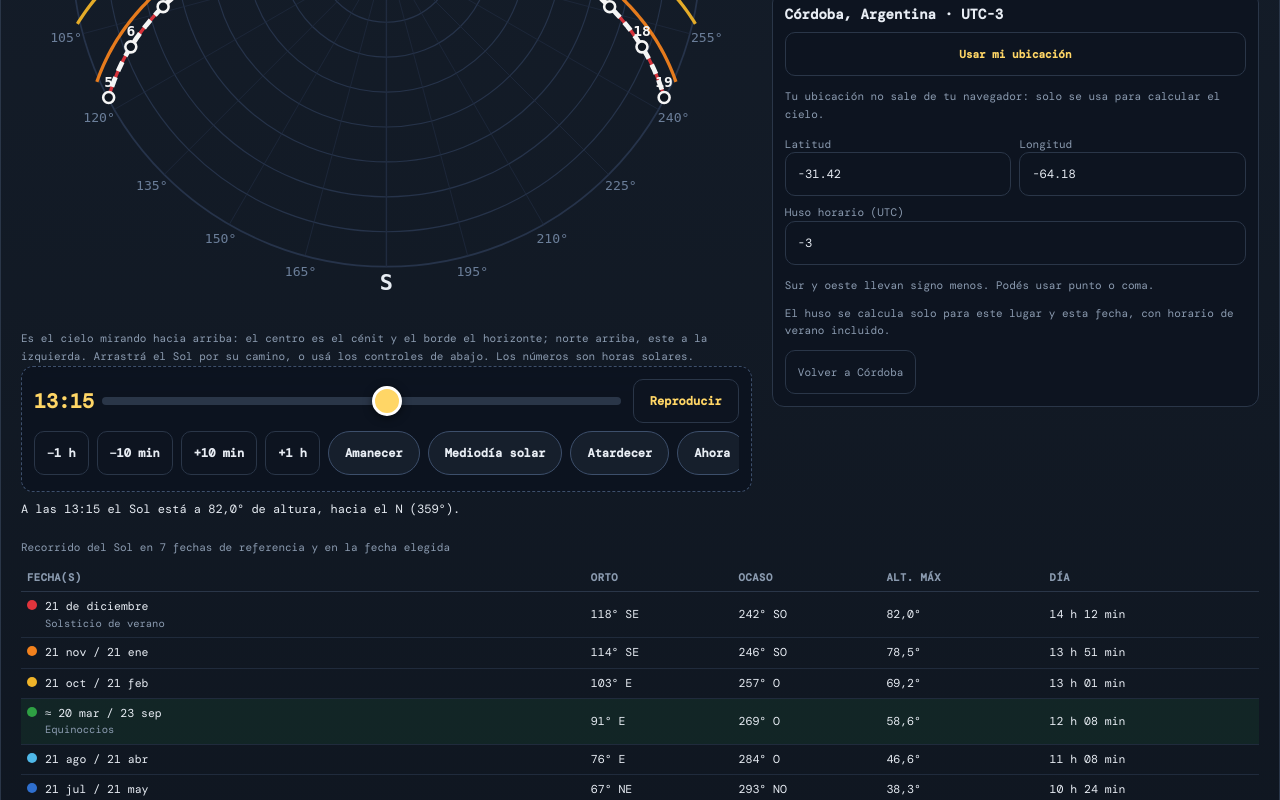
Test: SkyChart time of day › at night it says the Sun is below the horizon
(page scrolled)
Set the slider named "Hora del día" to "180": (173,400) [102,378,621,422]
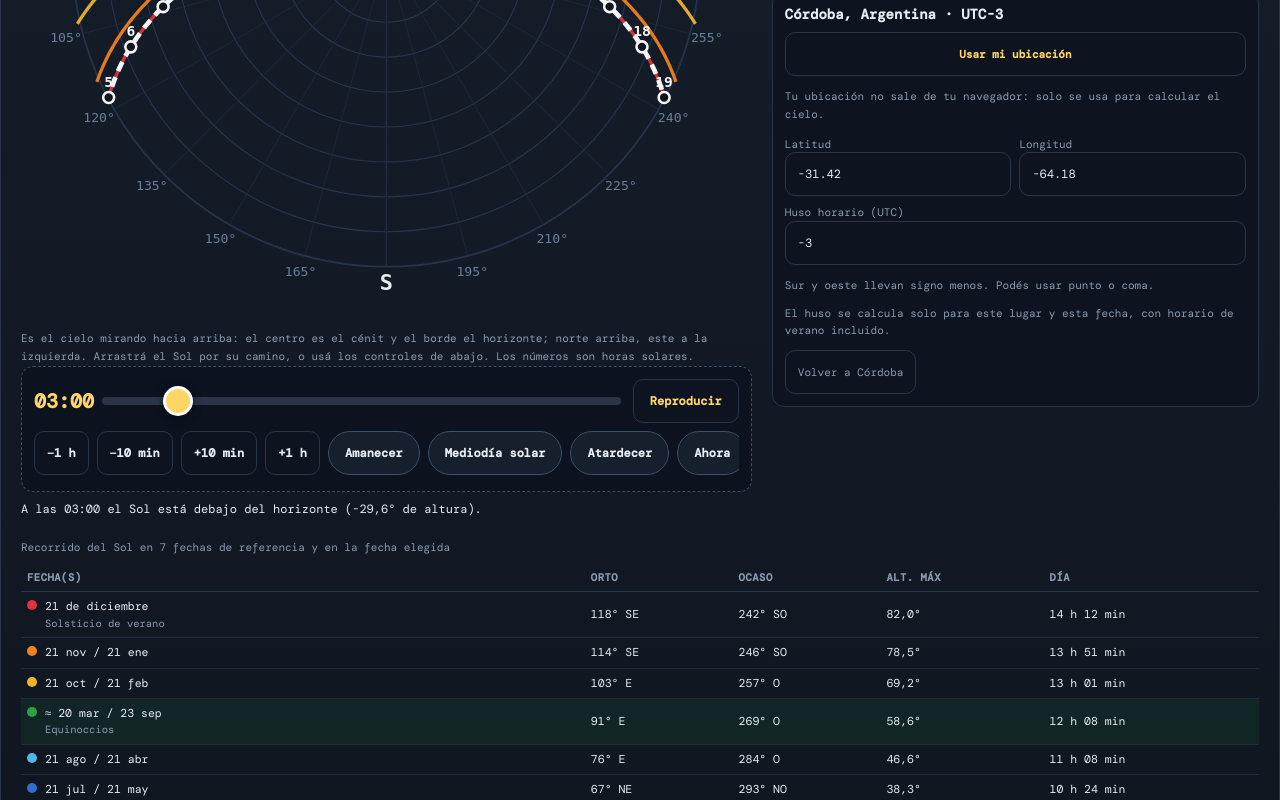
Result: the text with test id "sun-readout" shows "debajo del horizonte" at [21,500,482,516]
